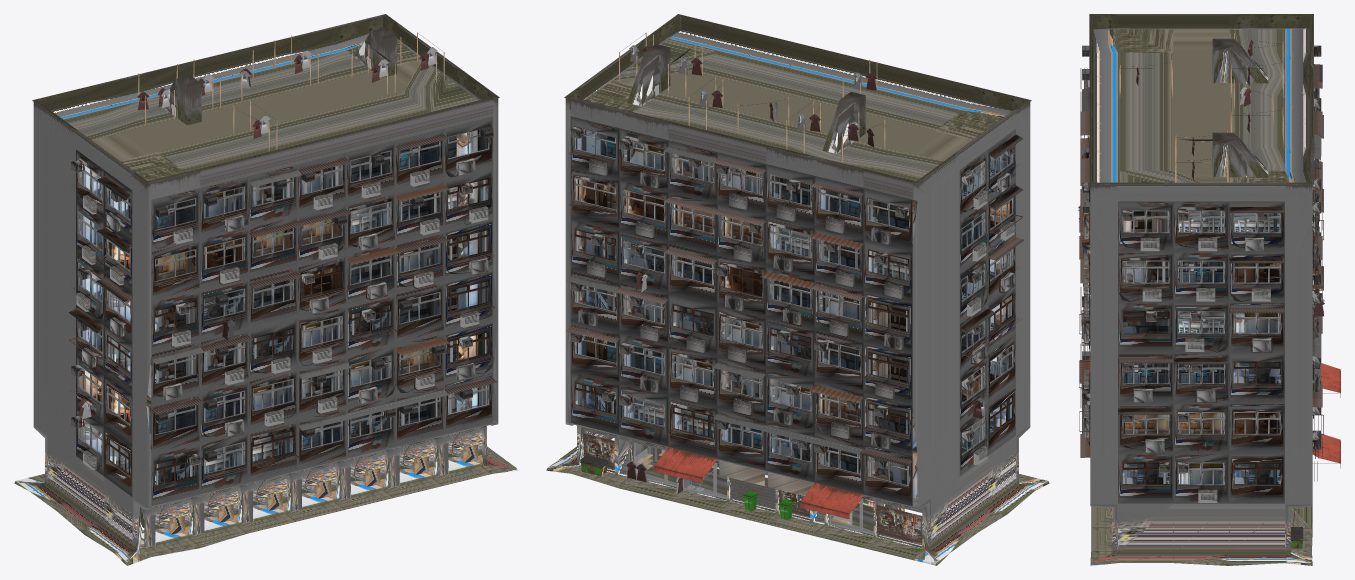
File: hk_proc.glb
The picture shows the model from 3 angles, left to right: view 1: azimuth 30°, elevation 25°; view 2: azimuth 150°, elevation 25°; view 3: azimuth 270°, elevation 25°; orthographic projection.
Visible parts, largest first — view 1: Object_4, Object_362; view 2: Object_4, Object_362; view 3: Object_362, Object_4.
Boxes of the visible parts, x1,y1,x2,y2 form: Object_4: (68,47,497,506); Object_362: (14,14,517,565); Object_4: (566,45,1023,506); Object_362: (546,14,1049,565); Object_362: (1089,14,1340,565); Object_4: (1078,40,1324,526).
Size of the model in its own units: 8 by 8 by 4.73.
3 materials, 2 textured.
